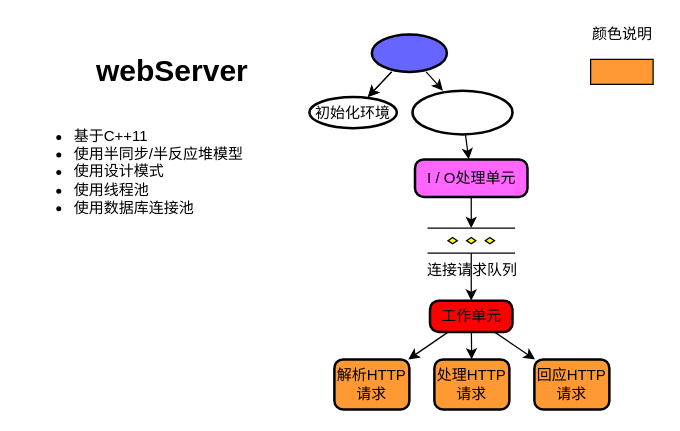
Some shapes in this 680 by 431 pixel diagram are drawn without their labels. Each missing label, with the centre of its shape:
主线程: pixel 409 52
多线程: pixel 621 71
监听连接请求: pixel 462 112
